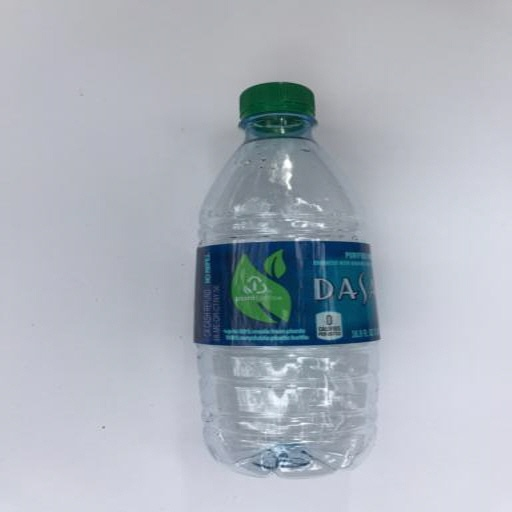Plastic_0: (192, 77, 382, 479)
